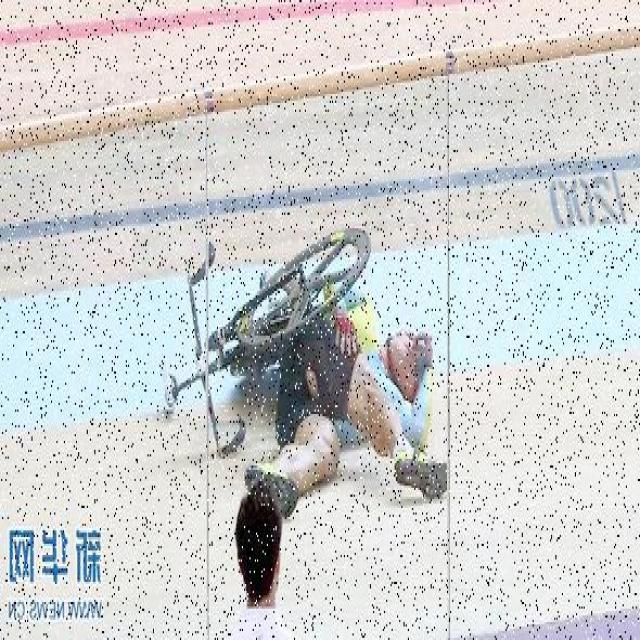fall: (254, 284, 438, 515)
